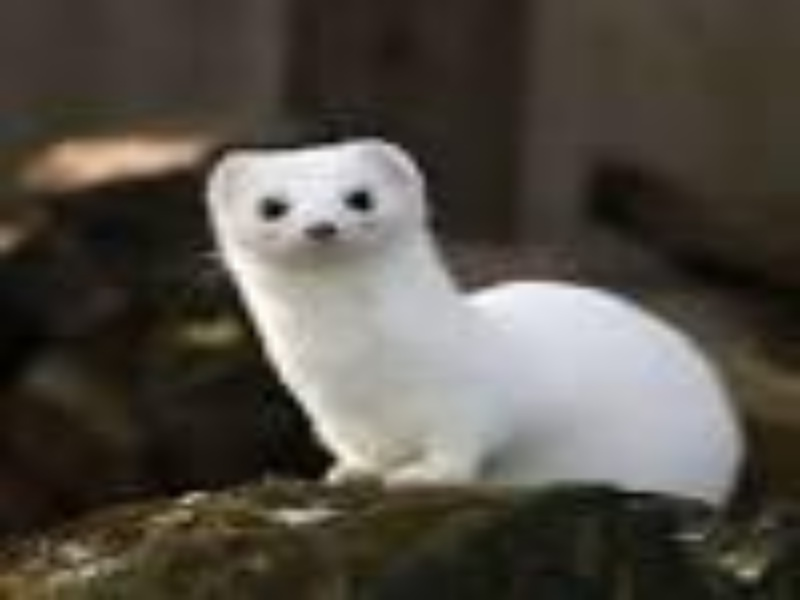minkish: (205, 132, 743, 518)
